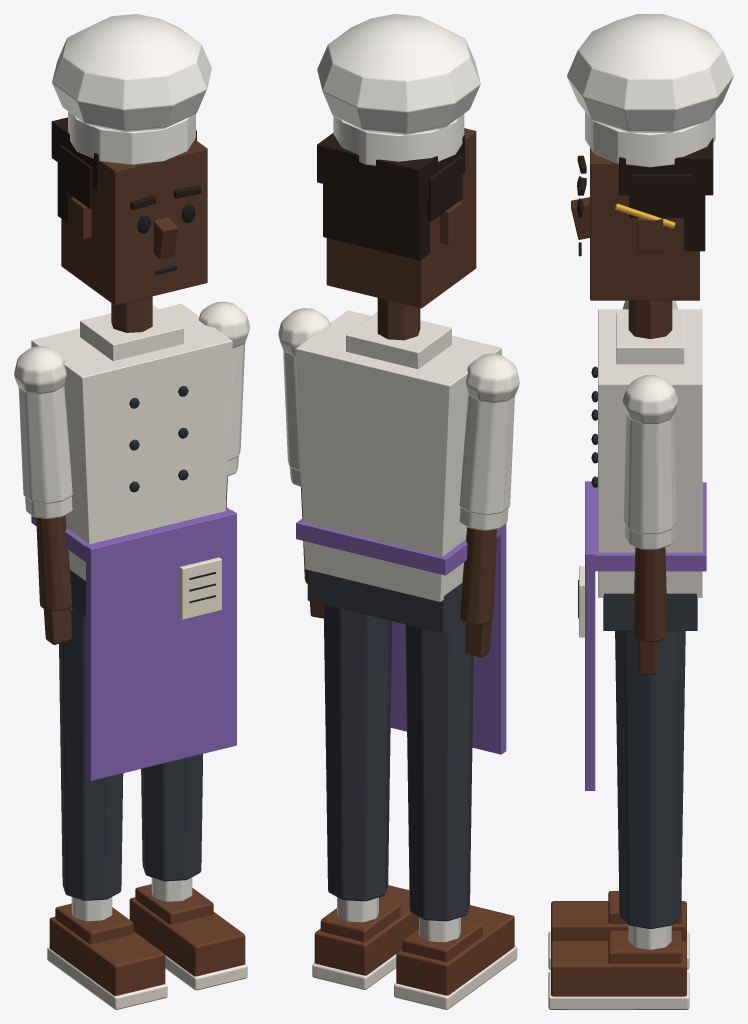
The model's file is Chef_Mute.glb.
3 views of the same model, side by side, from view 1: azimuth 30°, elevation 25°; view 2: azimuth 150°, elevation 25°; view 3: azimuth 270°, elevation 25° (orthographic). The views are drawn at different scales.
Visible parts, largest first — view 1: Chef_Mute_Torso, Chef_Mute_Head, Chef_Mute_LegL, Chef_Mute_LegR, Chef_Mute_ArmL, Chef_Mute_ForearmL, Chef_Mute_ArmR; view 2: Chef_Mute_Torso, Chef_Mute_Head, Chef_Mute_LegL, Chef_Mute_LegR, Chef_Mute_ArmL, Chef_Mute_ForearmL, Chef_Mute_ArmR; view 3: Chef_Mute_Head, Chef_Mute_LegR, Chef_Mute_Torso, Chef_Mute_ArmR, Chef_Mute_ForearmR, Chef_Mute_LegL.
Boxes of the visible parts, left/top/right/bottom form: Chef_Mute_Torso: left=31, top=296, right=236, bottom=780; Chef_Mute_Head: left=51, top=14, right=211, bottom=305; Chef_Mute_LegL: left=47, top=575, right=167, bottom=1009; Chef_Mute_LegR: left=129, top=754, right=247, bottom=990; Chef_Mute_ArmL: left=14, top=345, right=72, bottom=503; Chef_Mute_ForearmL: left=25, top=496, right=72, bottom=644; Chef_Mute_ArmR: left=199, top=301, right=249, bottom=460; Chef_Mute_Torso: left=296, top=298, right=506, bottom=754; Chef_Mute_Head: left=317, top=14, right=480, bottom=308; Chef_Mute_LegL: left=394, top=588, right=517, bottom=1009; Chef_Mute_LegR: left=312, top=604, right=418, bottom=989; Chef_Mute_ArmL: left=459, top=353, right=519, bottom=514; Chef_Mute_ForearmL: left=459, top=507, right=508, bottom=657; Chef_Mute_ArmR: left=278, top=308, right=330, bottom=471; Chef_Mute_Head: left=567, top=14, right=733, bottom=300; Chef_Mute_LegR: left=548, top=631, right=689, bottom=1009; Chef_Mute_Torso: left=578, top=300, right=706, bottom=790; Chef_Mute_ArmR: left=622, top=375, right=678, bottom=534; Chef_Mute_ForearmR: left=625, top=524, right=675, bottom=674; Chef_Mute_LegL: left=548, top=891, right=689, bottom=969.
Size of the model in its own units: 0.5128 by 2.01 by 0.3542.
